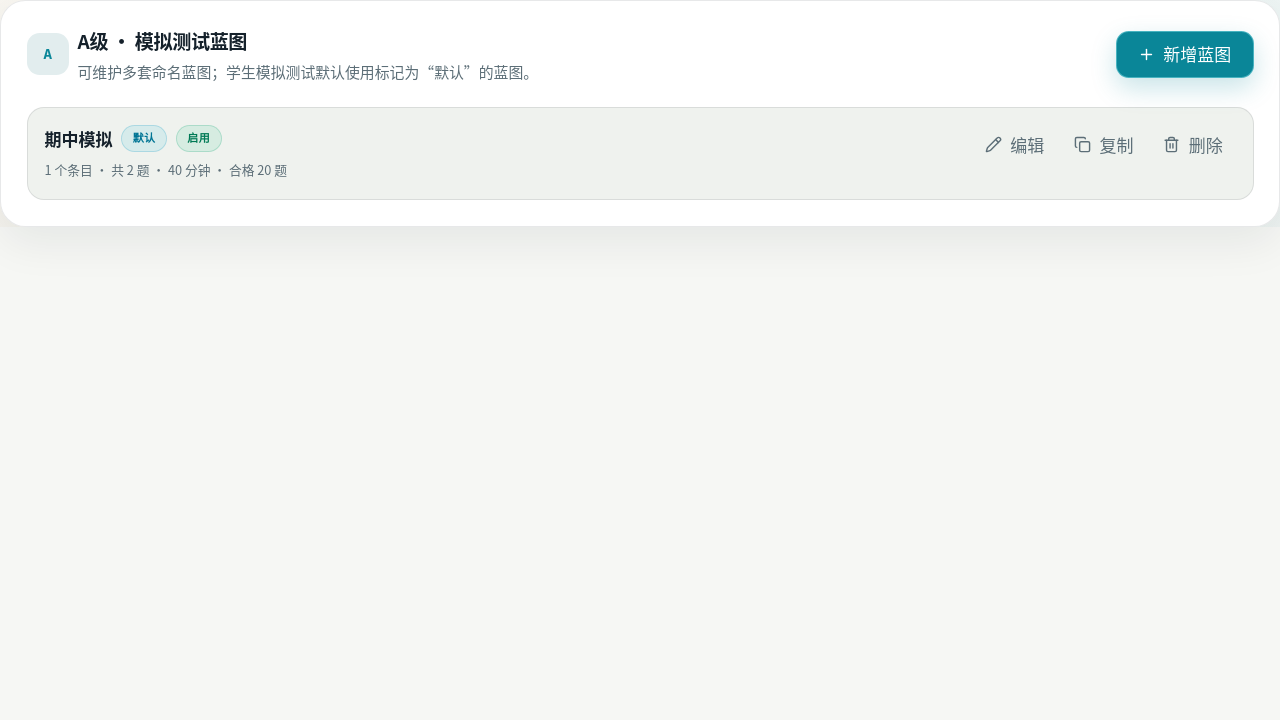
ExamBlueprintManager › shows real-time inventory shortage while editing counts
This screenshot has width=1280, height=720.
Click the button "编辑" at [1014, 144], box [972,125,1057,164]
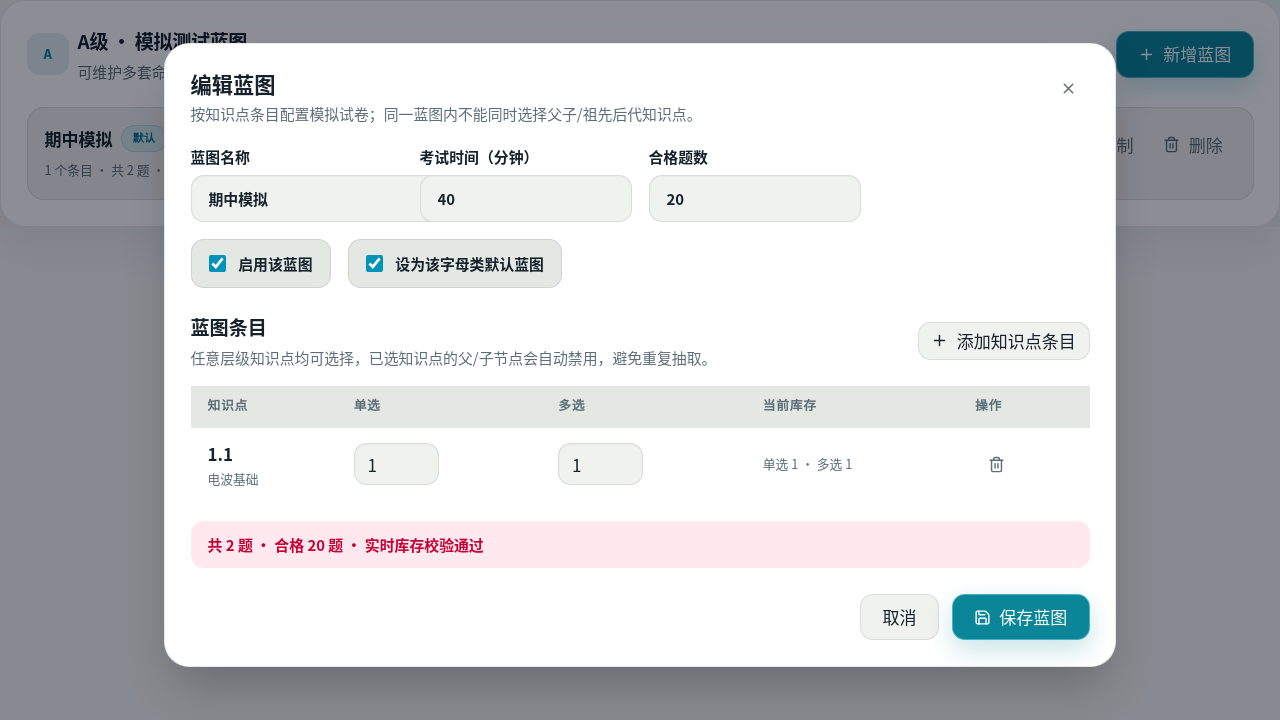
Replace the text in the number field named "1.1 单选数量" with "2" at [396, 464], box [354,443,439,485]
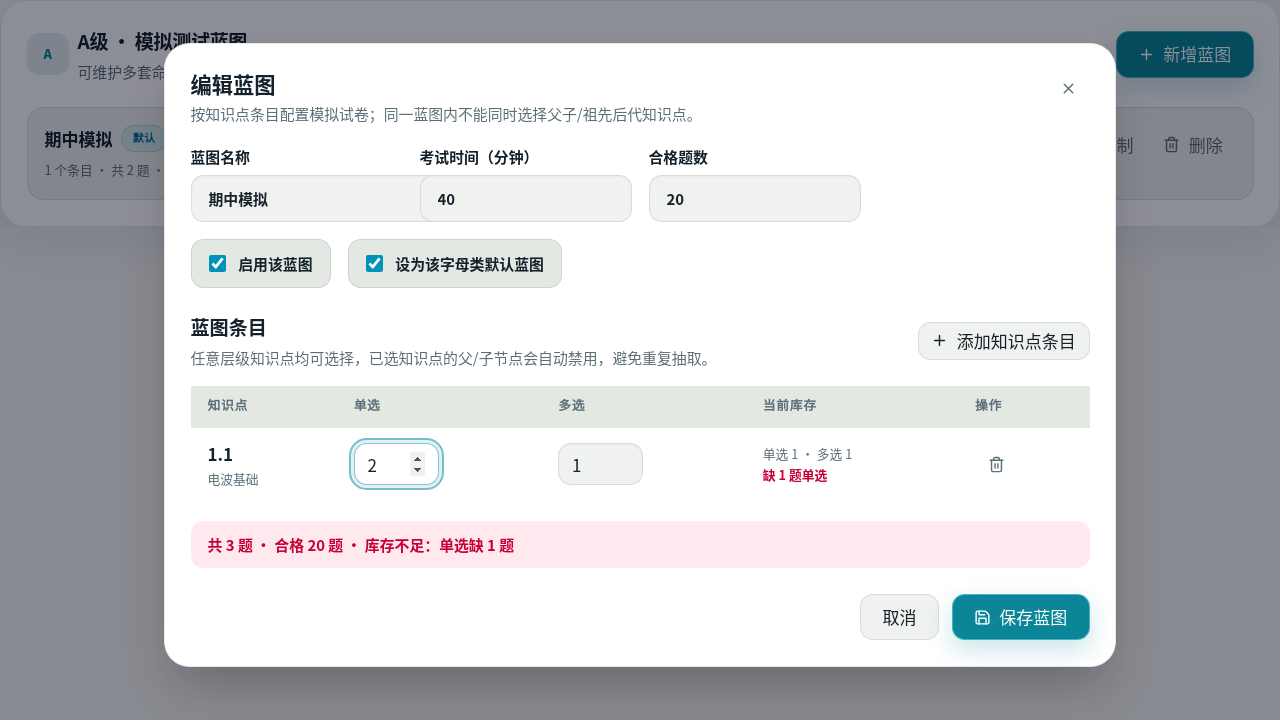
Now the message shows "库存不足", box [365,534,514,555]
Now the message shows "单选缺 1 题", box [365,534,514,555]
Now the text "缺 1 题单选" is shown, box [763,465,827,484]
